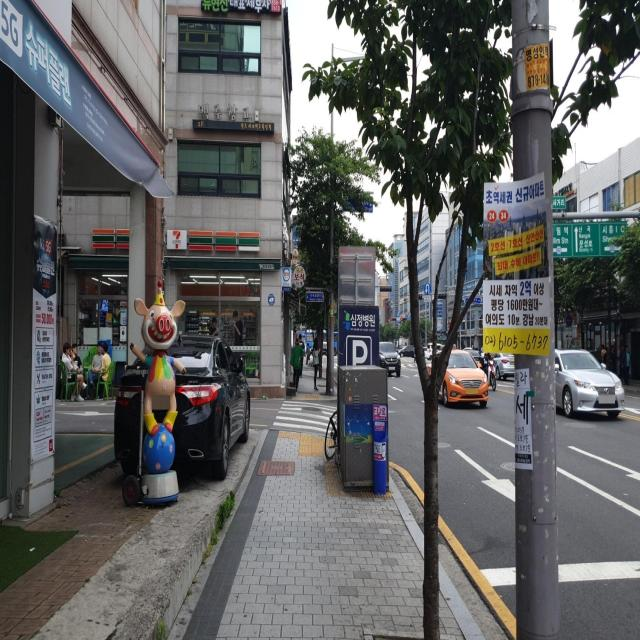횡단보도: (272, 400, 338, 433)
